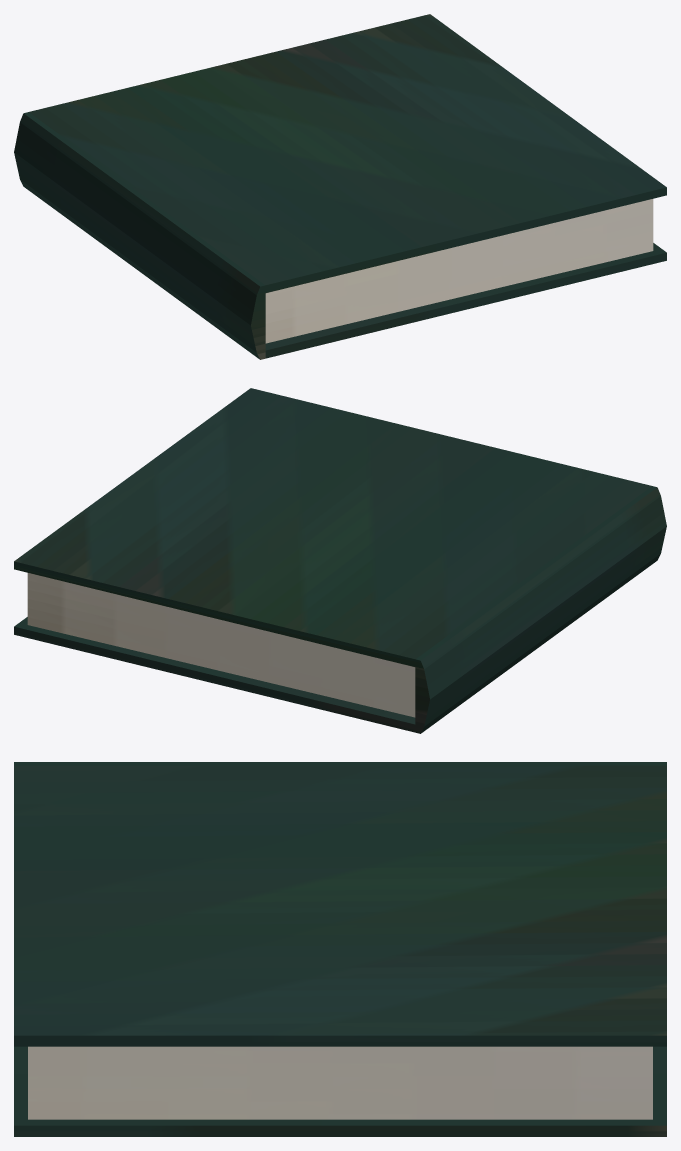
Rendered from book.fbx.
3 views of the same model, one above another, from view 1: azimuth 30°, elevation 25°; view 2: azimuth 150°, elevation 25°; view 3: azimuth 270°, elevation 25° (orthographic). The views are drawn at different scales.
Visible parts, largest first — view 1: Cube; view 2: Cube; view 3: Cube.
Part boxes in pixels (x1,y1,x2,y2): Cube: (14, 14, 666, 359); Cube: (14, 388, 666, 733); Cube: (14, 762, 666, 1136).
Size of the model in its own units: 203 by 34.16 by 200.
1 material, 1 textured.
